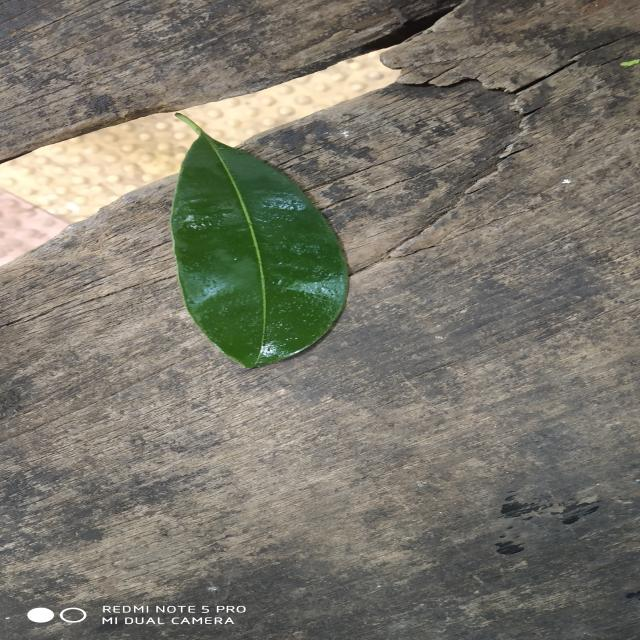sapota: (171, 114, 349, 368)
